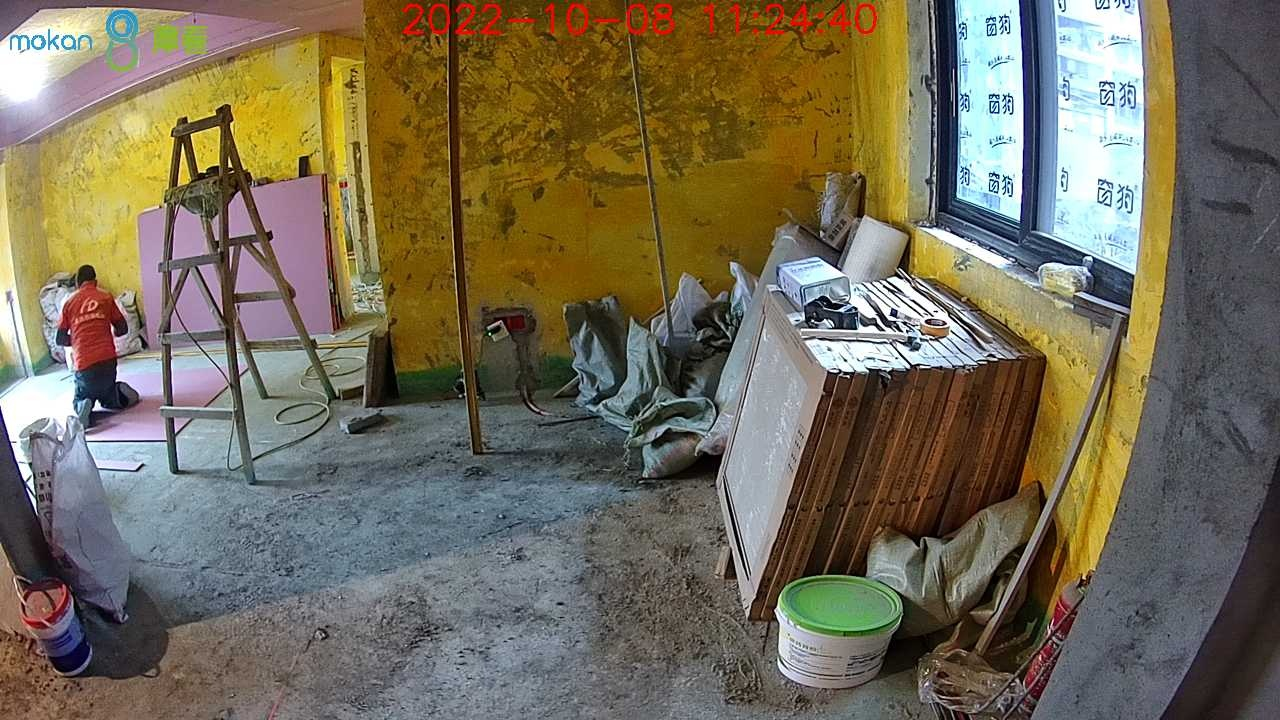people: (56, 263, 135, 425)
window: (928, 1, 1142, 287)
